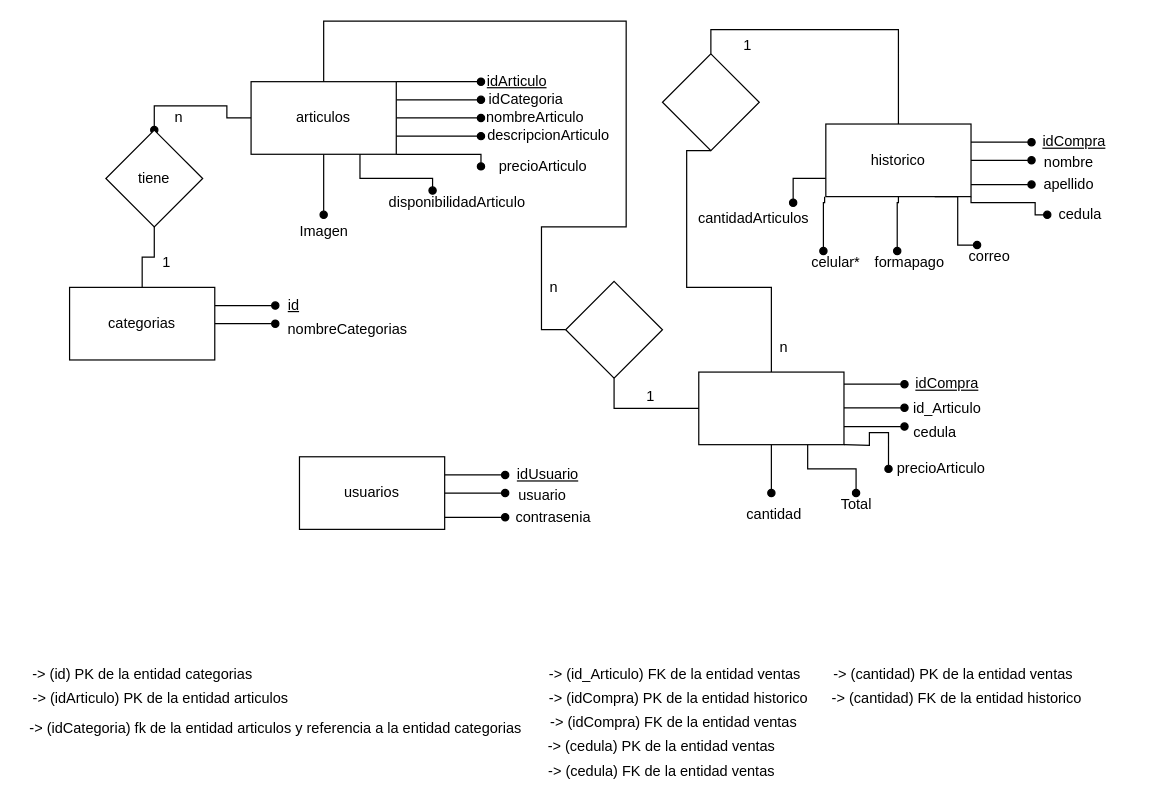
The diagram is 1162 pixels wide and 805 high, and some of its shapes have lost their labels. The box of each missing label's shape, as (x1, y1, x2, y2) in pixels:
registra: (564, 280, 662, 378)
tienen: (661, 53, 759, 151)
ventas: (698, 371, 844, 445)
